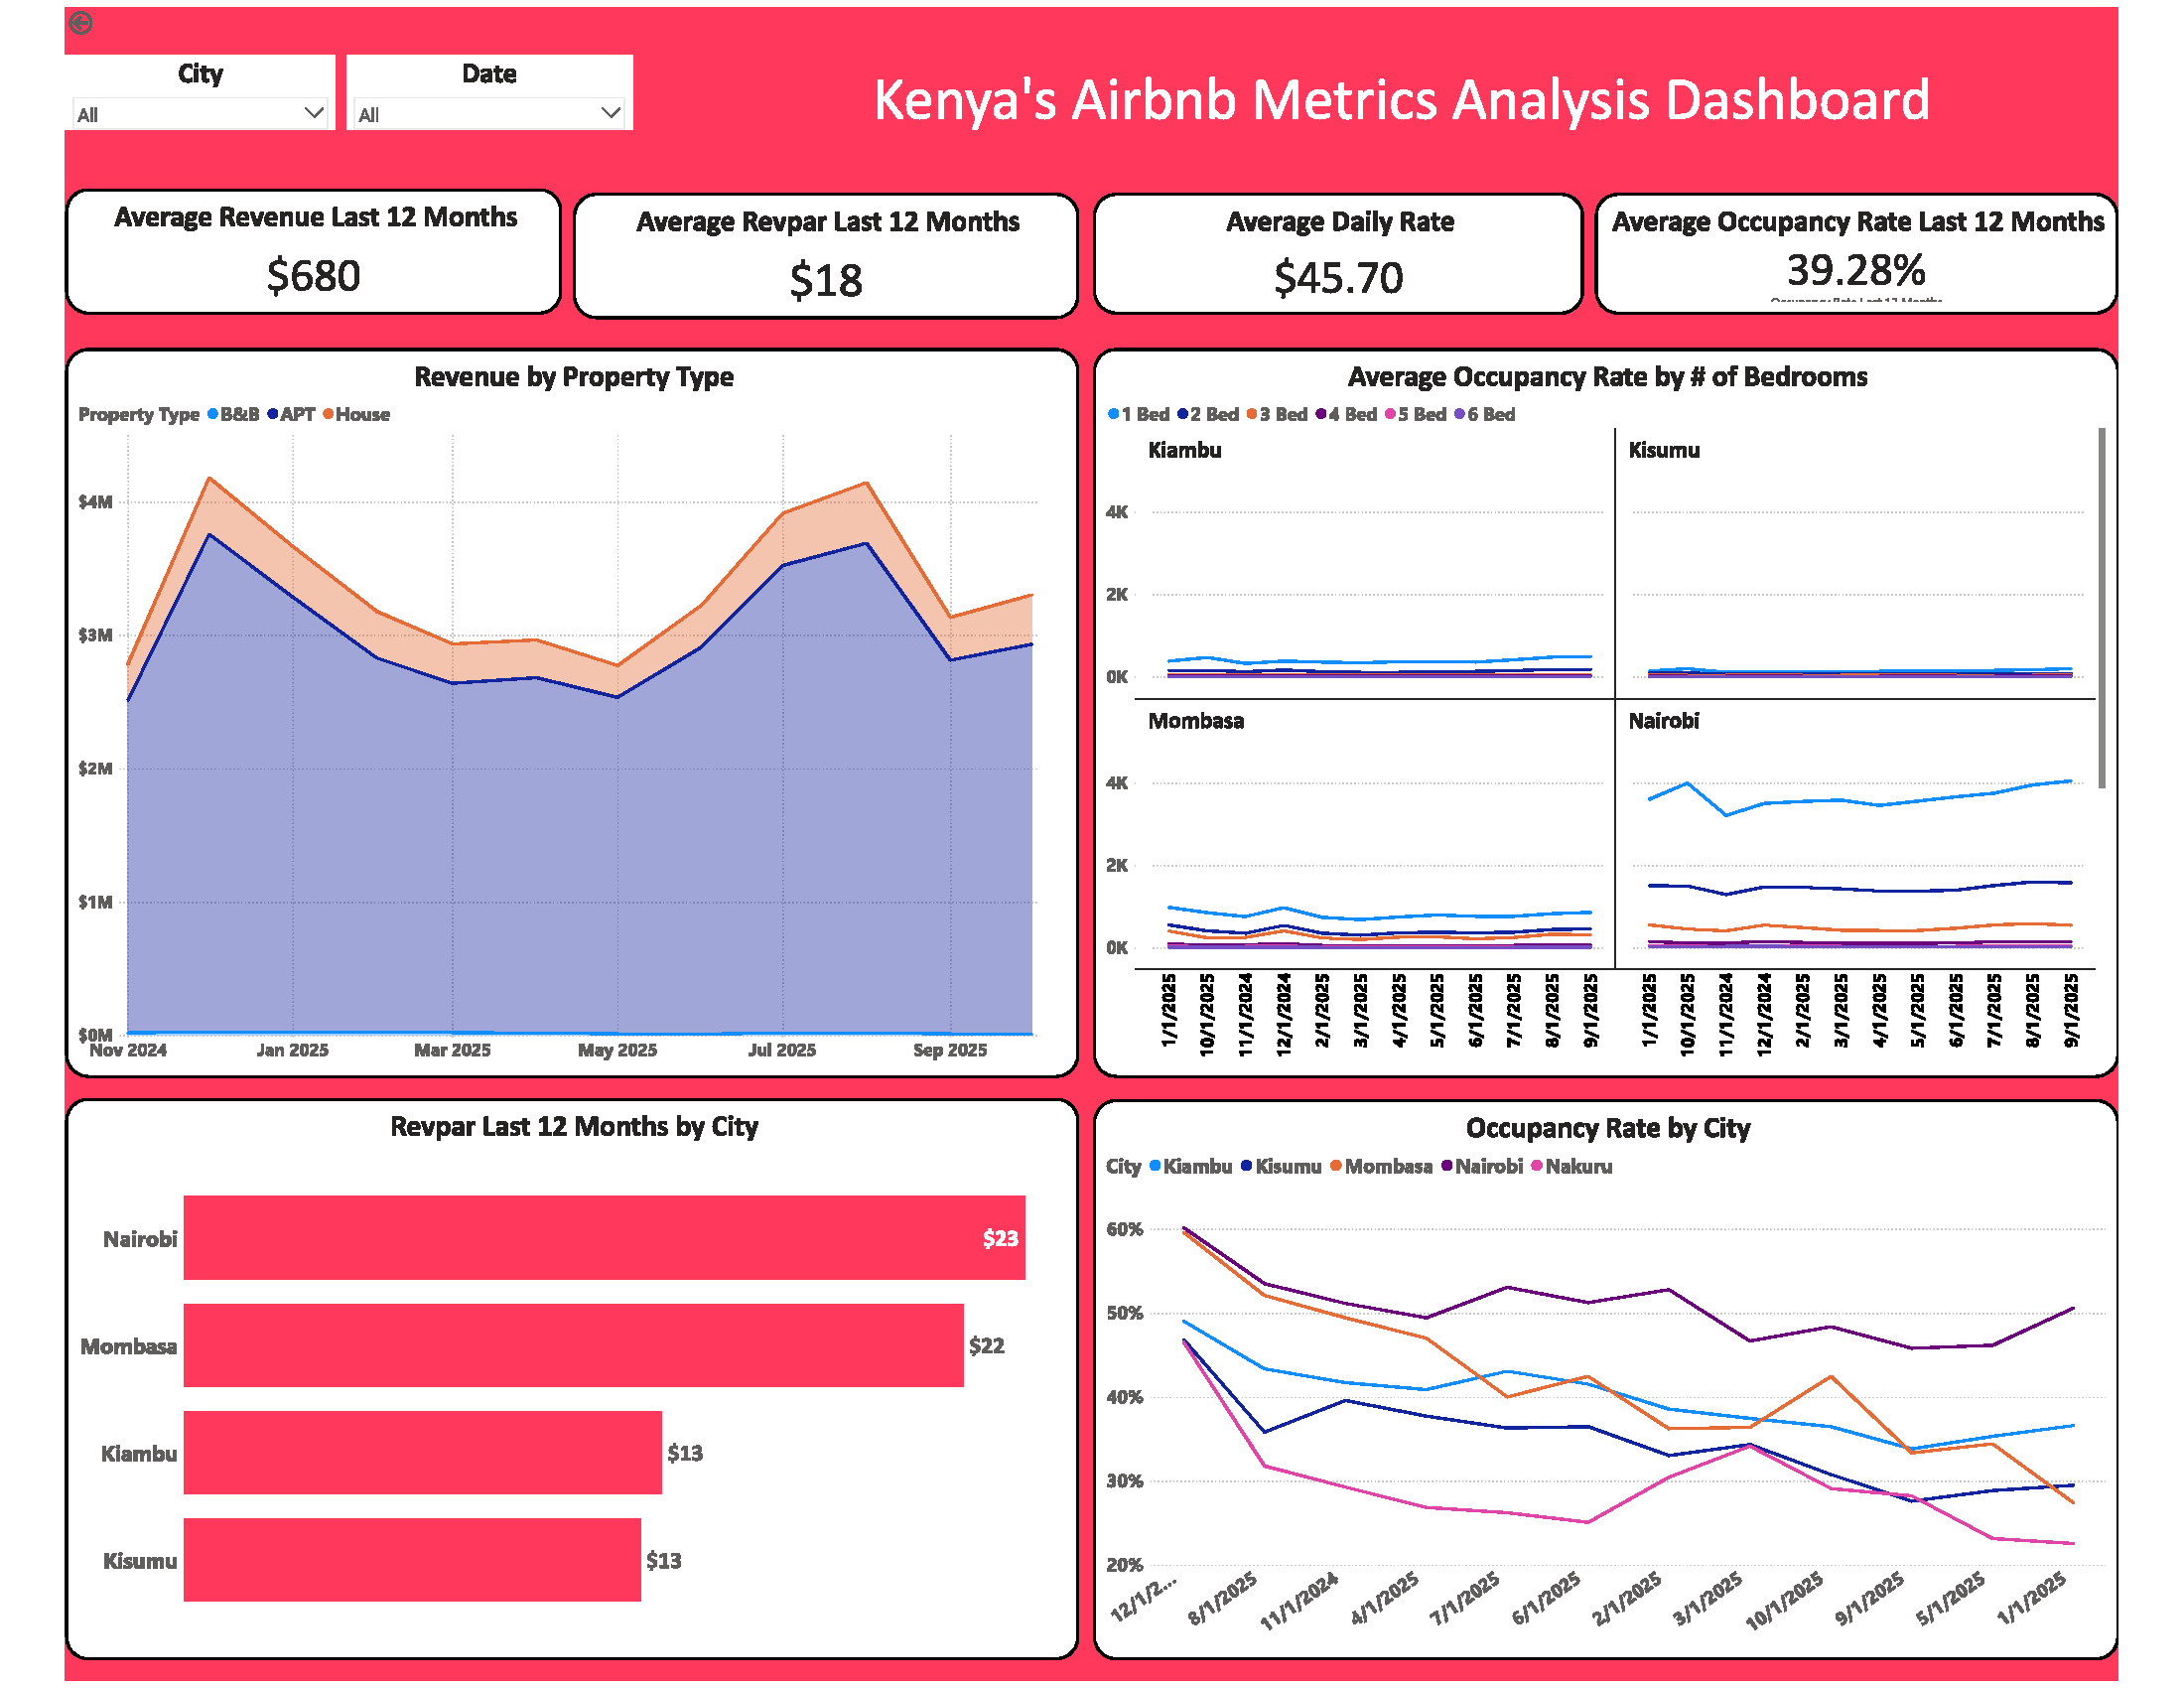

The page's visual inventory and layout, read from the dashboard file:
{"tool":"powerbi","page":{"name":"Kenya Airbnb Metrics Analysis","canvas":[2700,2200],"ordinal":2},"visuals":[{"type":"card","title":"Average Revenue Last 12 Months","fields":{"Values":["revenueAverage_last_12_month.Average Revenue Last 12 Months USD"]},"box":[0,238.8,653.1,165.3],"z":0},{"type":"card","title":"Average Revpar Last 12 Months","fields":{"Values":["revpar_last_12_month.Revpar Last 12 Months USD"]},"box":[667.3,244.9,665.3,165.3],"z":1000},{"type":"card","title":"Average Daily Rate","fields":{"Values":["rateByDailyAverage_last_12_month.Average Daily Rate USD"]},"box":[1351,244.9,644.9,159.2],"z":2000},{"type":"card","title":"Average Occupancy Rate Last 12 Months","fields":{"Values":["occupancy_last_12_month.Occupancy Rate Last 12 Months"]},"box":[2012.2,244.9,687.8,159.2],"z":3000},{"type":"stackedAreaChart","title":"Revenue by Property Type","fields":{"Category":["revenueByRealEstateType_last_12_month.Date"],"Y":["revenueByRealEstateType_last_12_month.B&B Revenue By Real Estate USD","revenueByRealEstateType_last_12_month.APT Revenue By Real Estate USD","revenueByRealEstateType_last_12_month.House Revenue By Real Estate USD"]},"box":[0,449,1332.7,959.2],"z":4000},{"type":"barChart","title":"Revpar Last 12 Months by  City","fields":{"Category":["revpar_last_12_month.City"],"Y":["revpar_last_12_month.Revpar Last 12 Months USD"]},"box":[0,1434.7,1332.7,738.8],"z":5000},{"type":"lineChart","title":"Average Occupancy Rate by # of Bedrooms","fields":{"Y":["Avg(occupancyBedrooms_last_12_month.1_bedroom)","Avg(occupancyBedrooms_last_12_month.2_bedroom)","Avg(occupancyBedrooms_last_12_month.3_bedroom)","Avg(occupancyBedrooms_last_12_month.4_bedroom)","Avg(occupancyBedrooms_last_12_month.5_bedroom)","Avg(occupancyBedrooms_last_12_month.6+_bedroom)"],"Category":["occupancyBedrooms_last_12_month.Date"],"Rows":["occupancyBedrooms_last_12_month.City"]},"box":[1351,449,1349,959.2],"z":6000},{"type":"lineChart","title":"Occupancy Rate by City","fields":{"Category":["occupancy_last_12_month.Date"],"Y":["occupancy_last_12_month.Occupancy Rate Last 12 Months"],"Series":["occupancy_last_12_month.City"]},"box":[1351,1436.7,1349,736.7],"z":7000},{"type":"slicer","title":"City","fields":{"Values":["occupancy_last_12_month.City"]},"box":[0,61.2,355.1,98],"z":8000},{"type":"slicer","title":"Date","fields":{"Values":["occupancy_last_12_month.Date"]},"box":[369.4,61.2,375.5,98],"z":9000},{"type":"actionButton","box":[0,0,100,40],"z":10000},{"type":"textbox","title":"Kenya''s Airbnb Metrics Analysis Dashboard","box":[818.4,69.4,1881.6,144.9],"z":11000}]}

Visuals, with their boxes in screenshot pixels (x1, y1, x2, y2):
"Average Revenue Last 12 Months" card: {"left": 57, "top": 187, "right": 551, "bottom": 312}
"Average Revpar Last 12 Months" card: {"left": 562, "top": 192, "right": 1066, "bottom": 317}
"Average Daily Rate" card: {"left": 1080, "top": 192, "right": 1569, "bottom": 312}
"Average Occupancy Rate Last 12 Months" card: {"left": 1580, "top": 192, "right": 2102, "bottom": 312}
"Revenue by Property Type" stackedAreaChart: {"left": 57, "top": 346, "right": 1066, "bottom": 1072}
"Revpar Last 12 Months by  City" barChart: {"left": 57, "top": 1092, "right": 1066, "bottom": 1652}
"Average Occupancy Rate by # of Bedrooms" lineChart: {"left": 1080, "top": 346, "right": 2102, "bottom": 1072}
"Occupancy Rate by City" lineChart: {"left": 1080, "top": 1094, "right": 2102, "bottom": 1651}
"City" slicer: {"left": 57, "top": 52, "right": 326, "bottom": 126}
"Date" slicer: {"left": 337, "top": 52, "right": 620, "bottom": 126}
actionButton: {"left": 57, "top": 6, "right": 133, "bottom": 36}
"Kenya''s Airbnb Metrics Analysis Dashboard" textbox: {"left": 677, "top": 59, "right": 2102, "bottom": 168}
